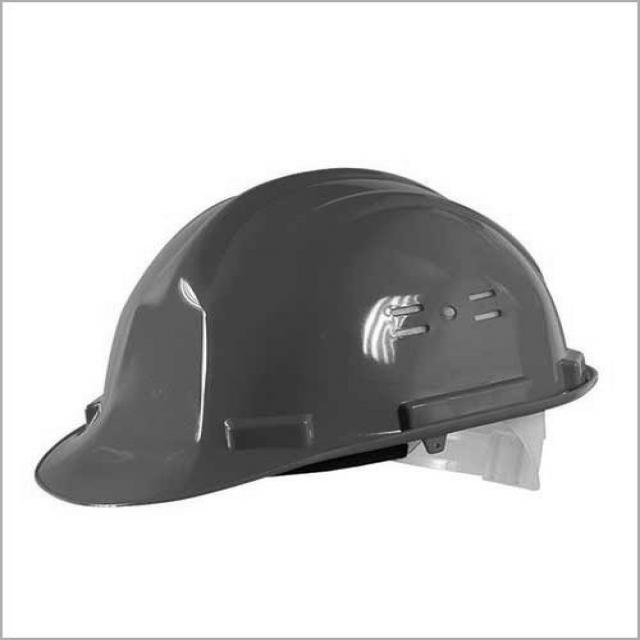safety_helmet: (35, 168, 599, 510)
